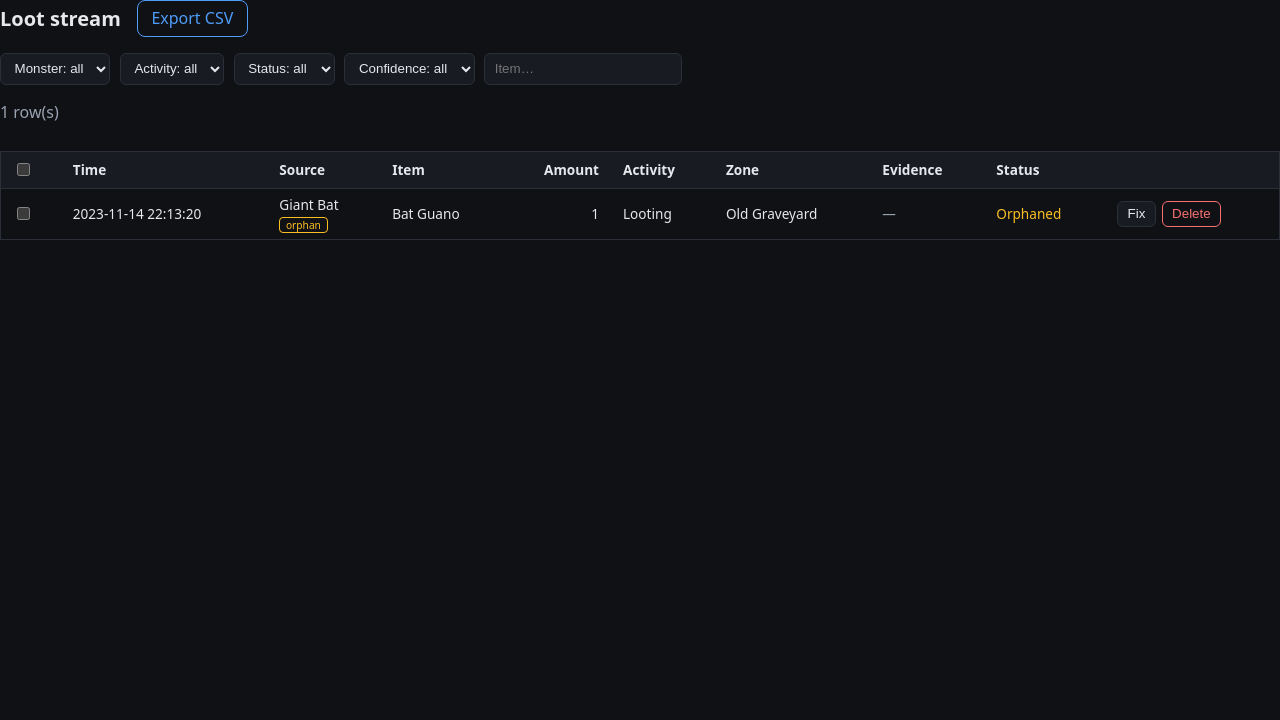
LootPage › cancelling the dialog leaves the row untouched
expect the text "Bat Guano" is shown: met, box [380, 188, 504, 240]
Click the button "Delete": click(1191, 214) [1162, 201, 1221, 227]
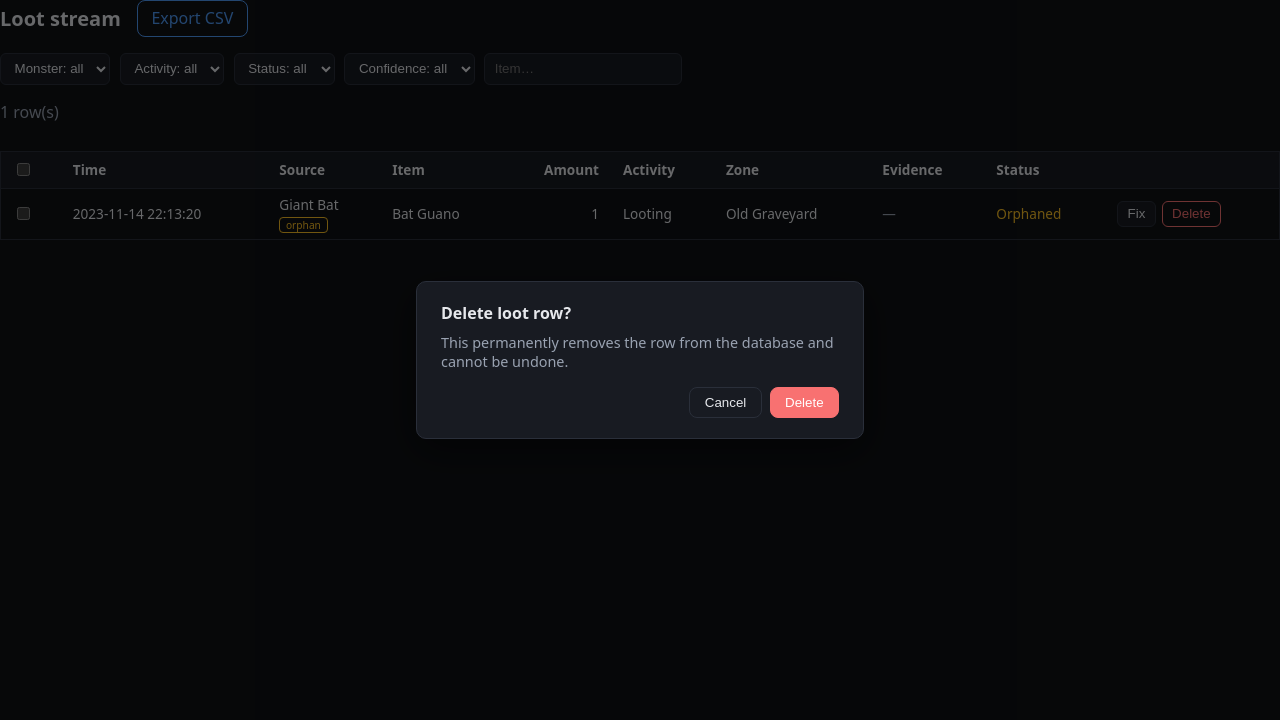
expect the heading "Delete loot row?" is shown: met, box [441, 302, 571, 324]
Click the button "Cancel": click(726, 403) [689, 387, 762, 418]
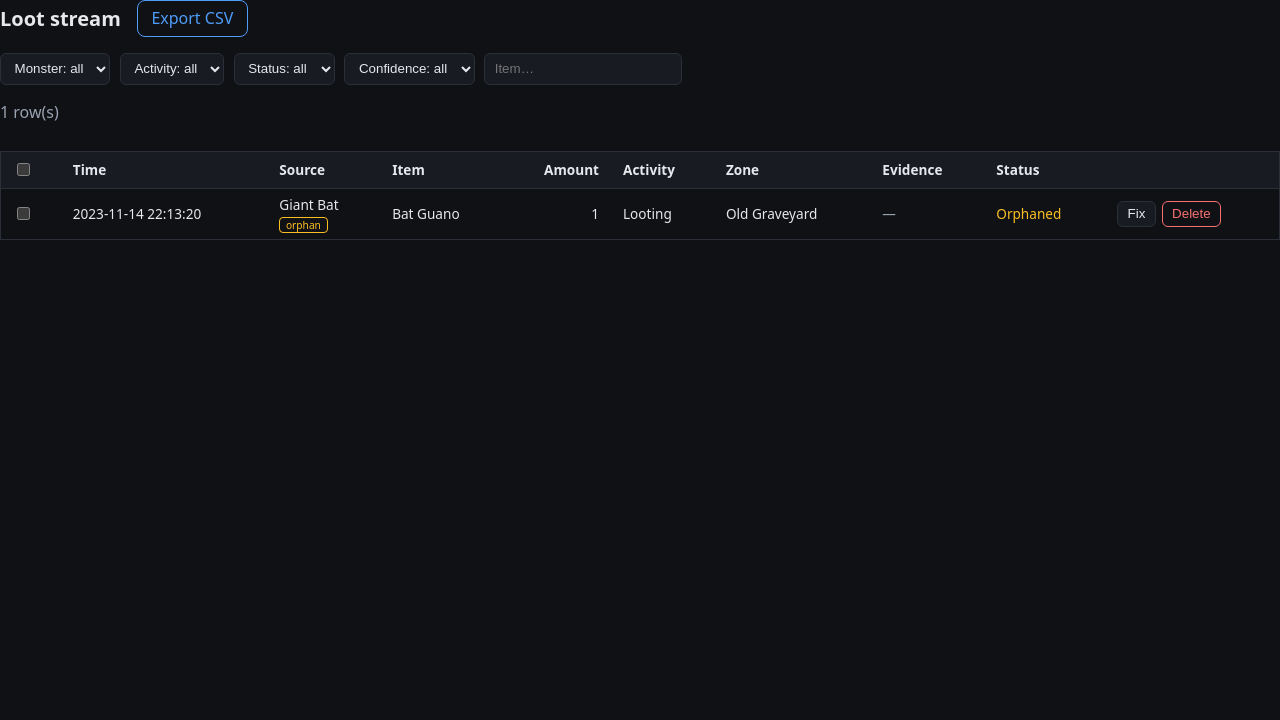
expect the text "Bat Guano" is shown: met, box [380, 188, 504, 240]
expect the heading "Delete loot row?" is gone: met
